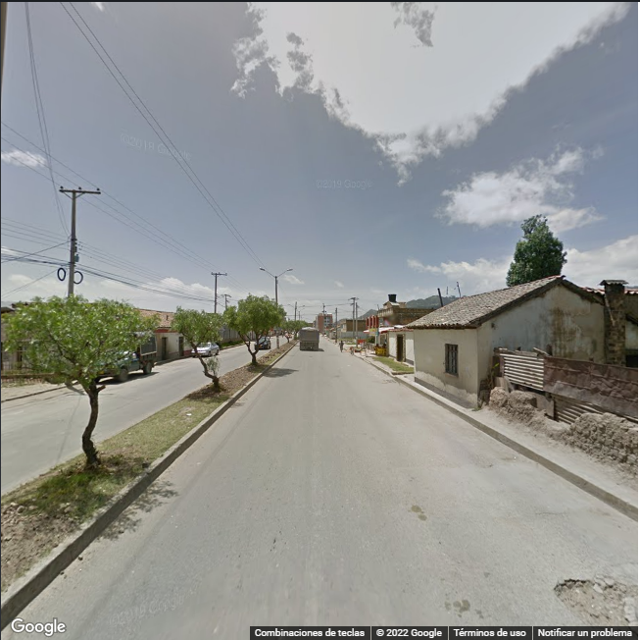D40: (554, 573, 632, 622)
